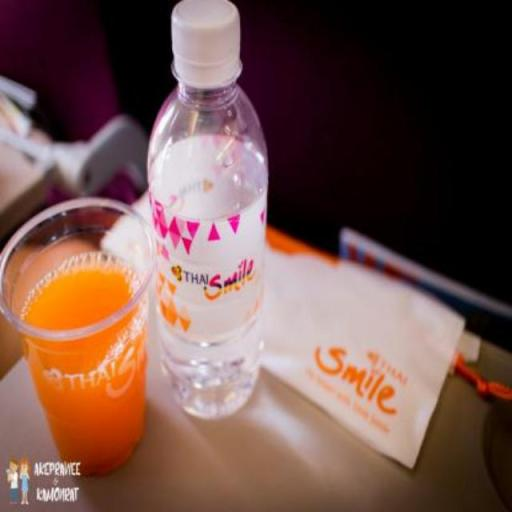Coca: (140, 0, 274, 426)
